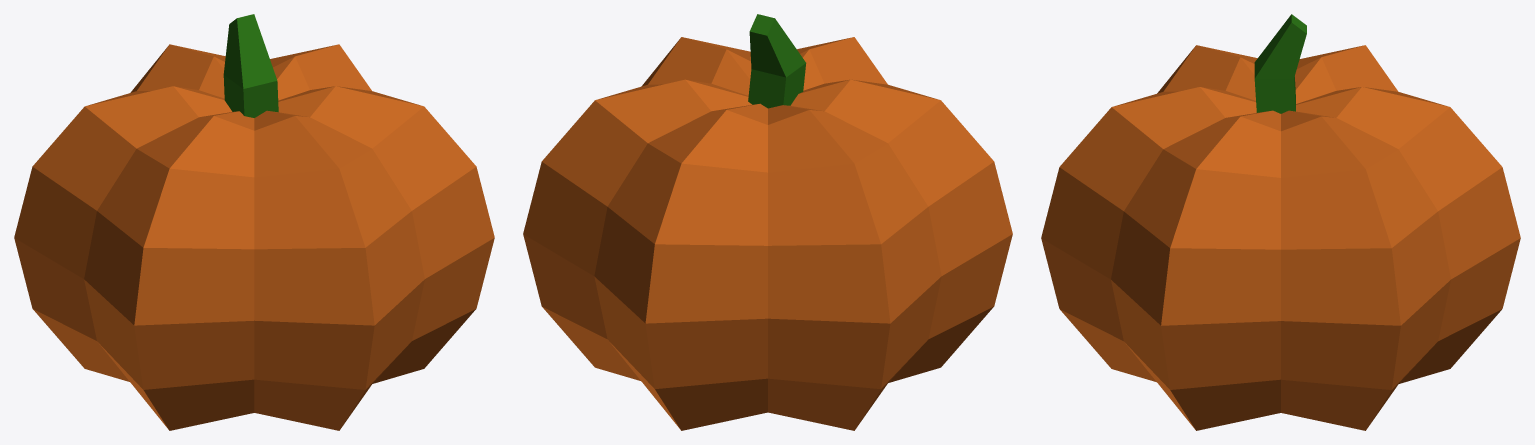
File: pumpkin.fbx
3 renders of one model, left to right at view 1: azimuth 30°, elevation 25°; view 2: azimuth 150°, elevation 25°; view 3: azimuth 270°, elevation 25°, orthographic. The views are drawn at different scales.
Visible parts, largest first — view 1: Pumpkin; view 2: Pumpkin; view 3: Pumpkin.
Part boxes in pixels (x1,y1,x2,y2): Pumpkin: (14, 14, 494, 430); Pumpkin: (523, 14, 1012, 430); Pumpkin: (1041, 14, 1520, 430).
Size of the model in its own units: 1.62 by 1.59 by 1.87.
1 material, 1 textured.
